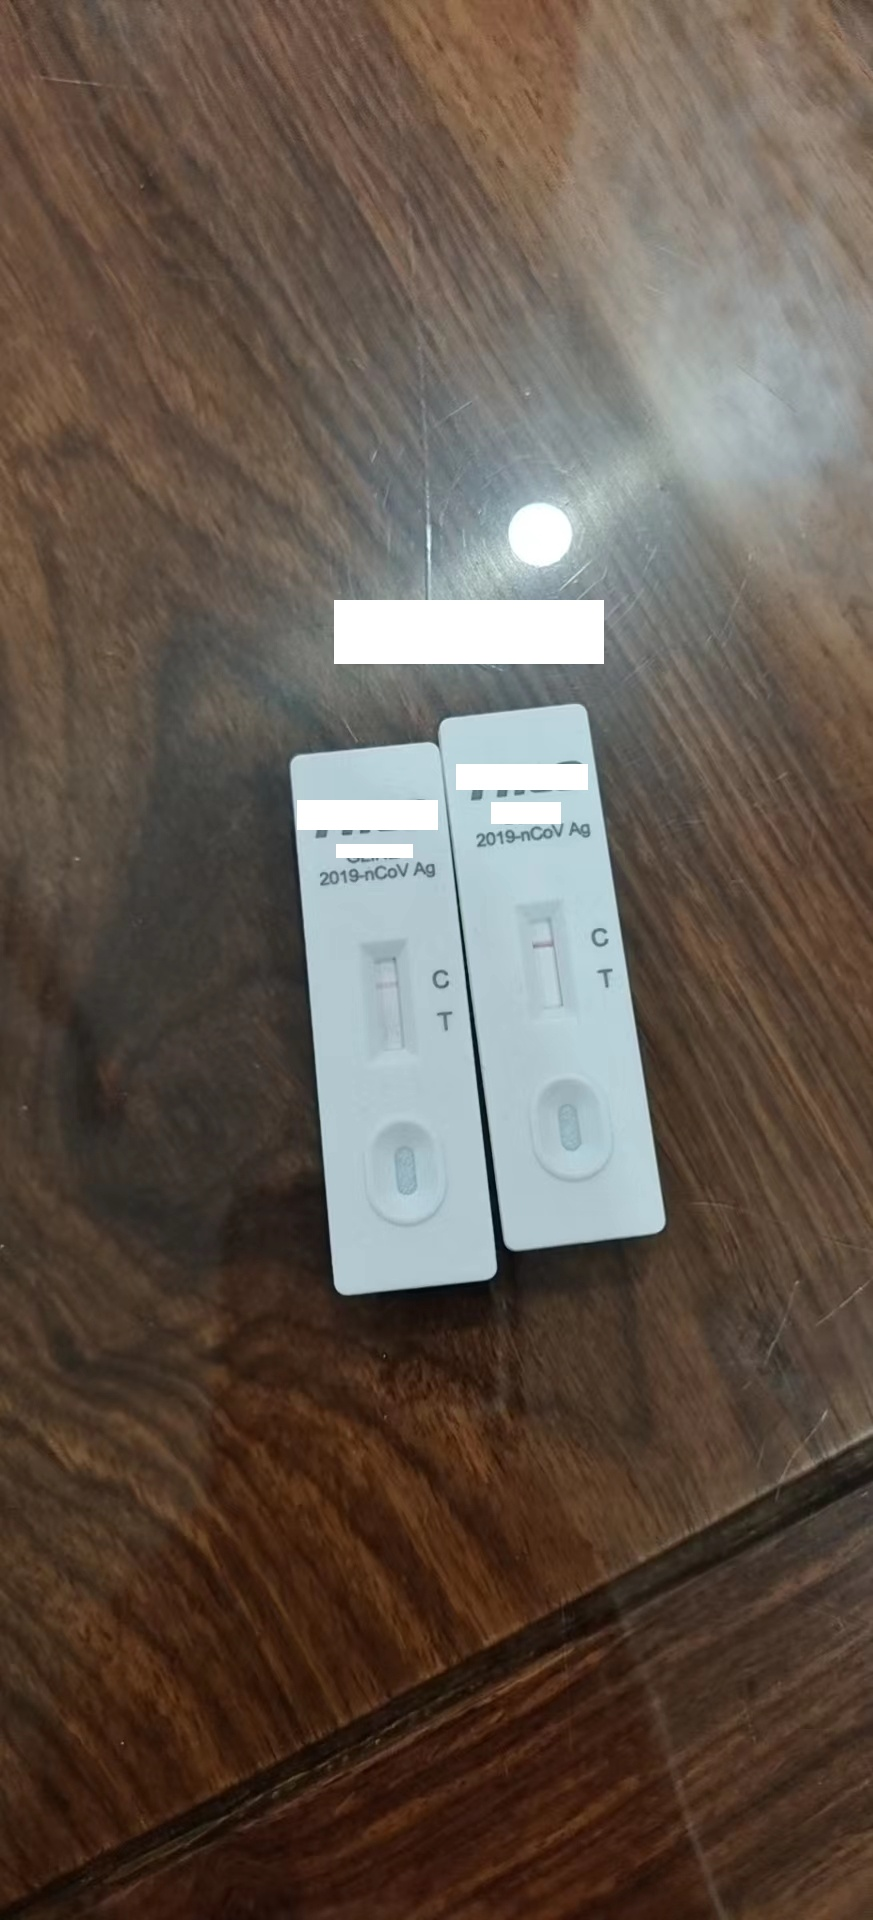negative: (360, 934, 411, 1060), (515, 899, 567, 1018)
